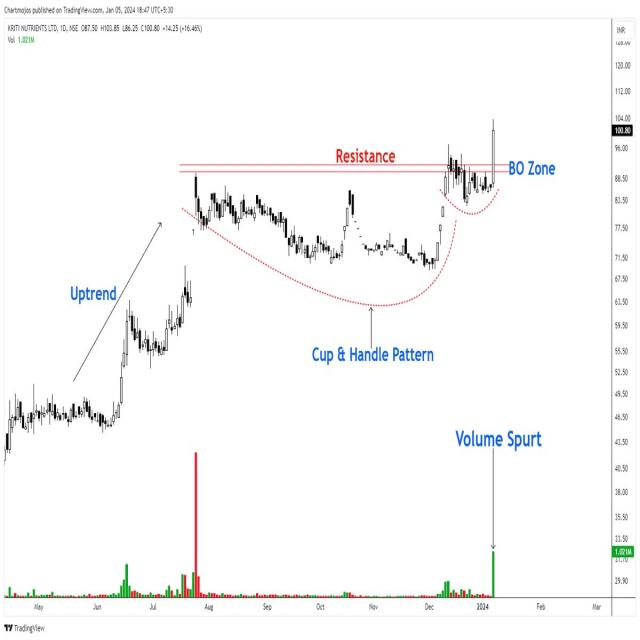Cup-and-handle: (186, 168, 507, 285)
